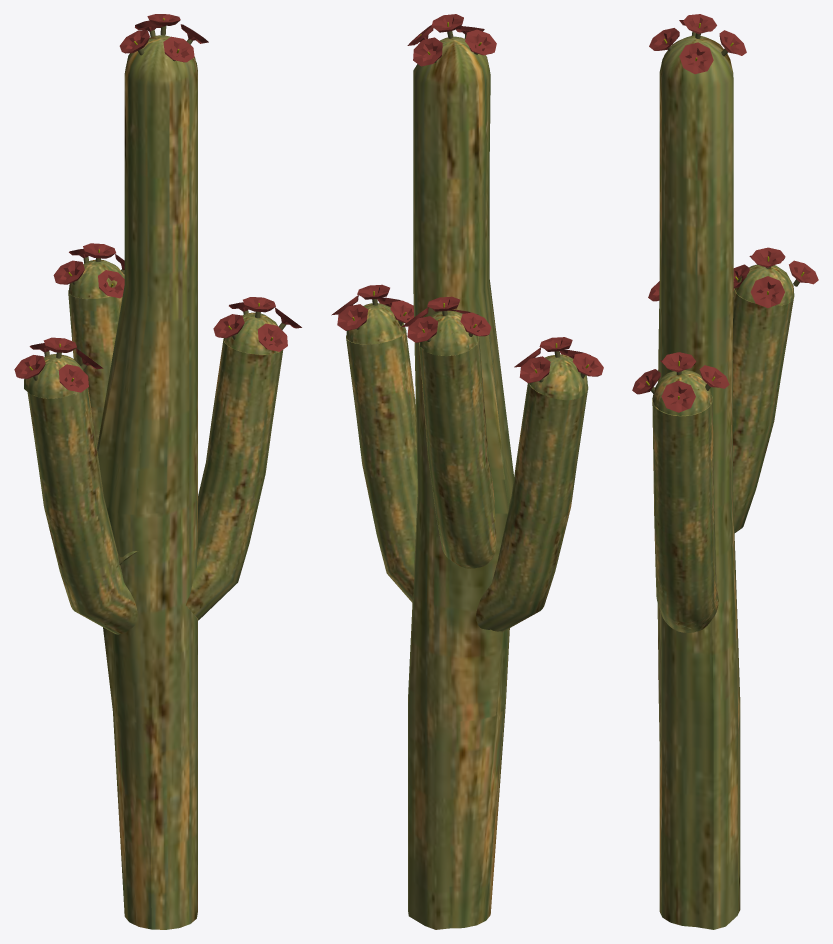
The model's file is cactus.fbx.
The picture shows the model from 3 angles, left to right: view 1: azimuth 30°, elevation 25°; view 2: azimuth 150°, elevation 25°; view 3: azimuth 270°, elevation 25°; orthographic projection.
Parts seen in each view (by area): view 1: Body_1, Flower, Flower_4, Flower_2, Flower_1; view 2: Body_1, Flower_2, Flower, Flower_1, Flower_4; view 3: Body_1, Flower_2, Flower_4, Flower_1.
Part boxes in pixels (x1,y1,x2,y2): Body_1: (24,35,283,929); Flower: (14,337,103,392); Flower_4: (213,297,301,351); Flower_2: (119,14,208,62); Flower_1: (53,243,124,298); Body_1: (346,36,588,929); Flower_2: (407,14,496,66); Flower: (514,337,603,383); Flower_1: (402,296,491,342); Flower_4: (331,284,413,330); Body_1: (652,35,794,929); Flower_2: (649,14,746,74); Flower_4: (632,352,729,412); Flower_1: (733,247,818,307).
Size of the model in its own units: 147 by 456 by 86.3.
4 materials, 1 textured.
